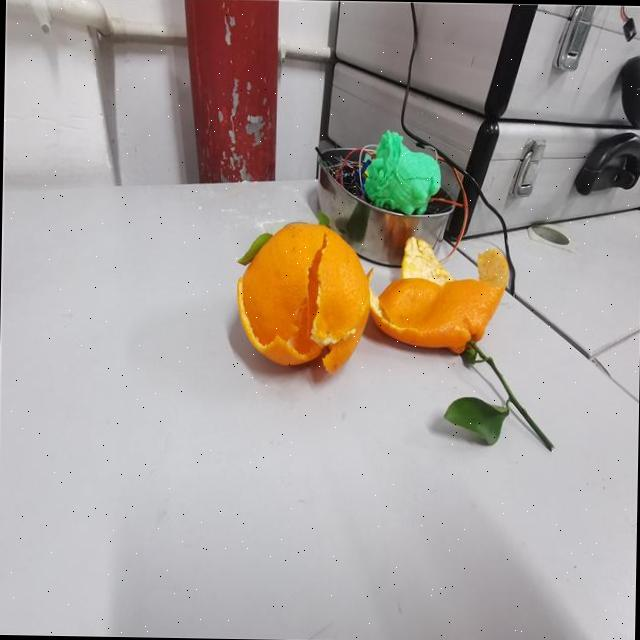orange-peel: (233, 218, 371, 374)
